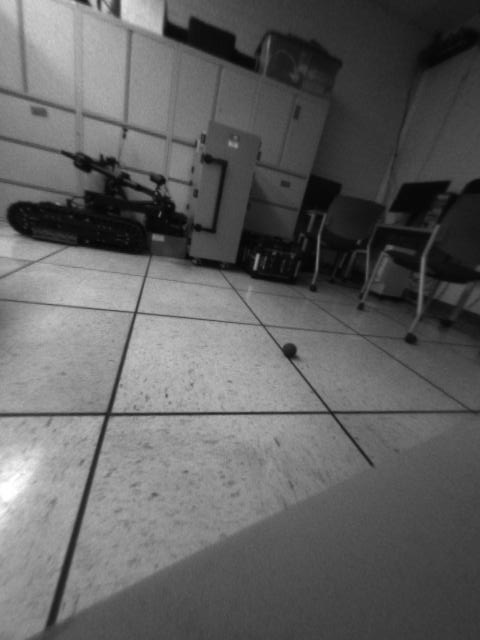dogtoy: (279, 337, 304, 361)
